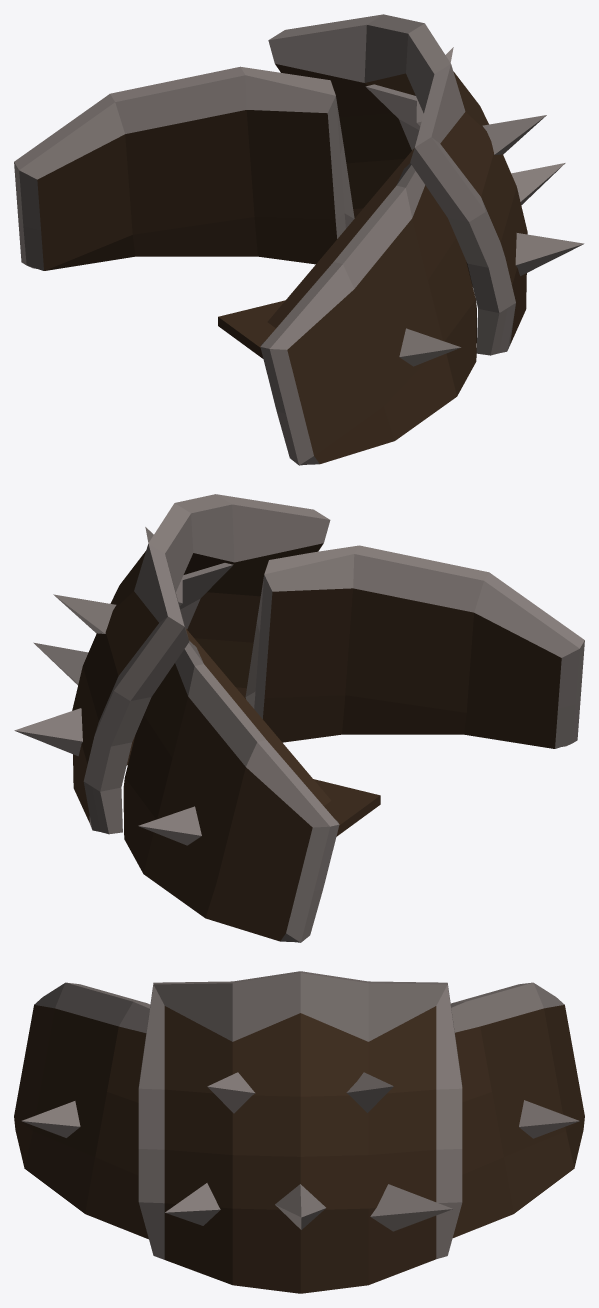
Rendered from Defence_turret_level_2.fbx.
3 views of the same model, one above another, from view 1: azimuth 30°, elevation 25°; view 2: azimuth 150°, elevation 25°; view 3: azimuth 270°, elevation 25° (orthographic).
Parts seen in each view (by area): view 1: Cube_2, Cube_1, Cube, Cube_4, Cube_3, Plane_2, Cube_5, Plane_6, Plane, Plane_4; view 2: Cube_1, Cube_2, Cube, Cube_4, Cube_3, Plane_3, Cube_5, Plane_5, Plane_1, Plane_4; view 3: Cube, Cube_1, Cube_2, Plane_3, Plane_5, Plane_2, Plane_4, Plane_6, Plane, Plane_1.
Boxes of the visible parts, x1,y1,x2,y2 form: Cube_2: (14,66,354,270); Cube_1: (260,163,476,465); Cube: (268,14,527,355); Cube_4: (267,148,414,328); Cube_3: (218,300,285,358); Plane_2: (515,233,584,275); Cube_5: (365,84,423,150); Plane_6: (399,328,461,366); Plane: (482,115,546,154); Plane_4: (511,163,565,205); Cube_1: (245,545,584,748); Cube_2: (123,640,339,942); Cube: (72,494,330,834); Cube_4: (185,628,331,805); Cube_3: (313,779,380,836); Plane_3: (14,708,82,756); Cube_5: (175,563,233,629); Plane_5: (138,806,201,845); Plane_1: (53,594,116,633); Plane_4: (33,642,88,684); Cube: (138,971,462,1293); Cube_1: (14,982,150,1239); Cube_2: (450,982,584,1237); Plane_3: (370,1184,452,1231); Plane_5: (519,1100,579,1138); Plane_2: (165,1183,220,1225); Plane_4: (275,1184,325,1229); Plane_6: (21,1101,80,1137); Plane: (207,1072,255,1113); Plane_1: (346,1072,393,1112).
Bounding box in the file's own units: 482 × 300 × 555.
